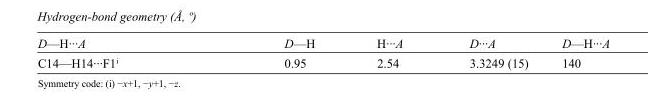table: (36, 36, 609, 69)
table column: (36, 36, 200, 69), (200, 36, 345, 69), (435, 36, 544, 69), (345, 36, 435, 69), (544, 36, 609, 69)
table row: (36, 52, 609, 69), (36, 36, 609, 52)
